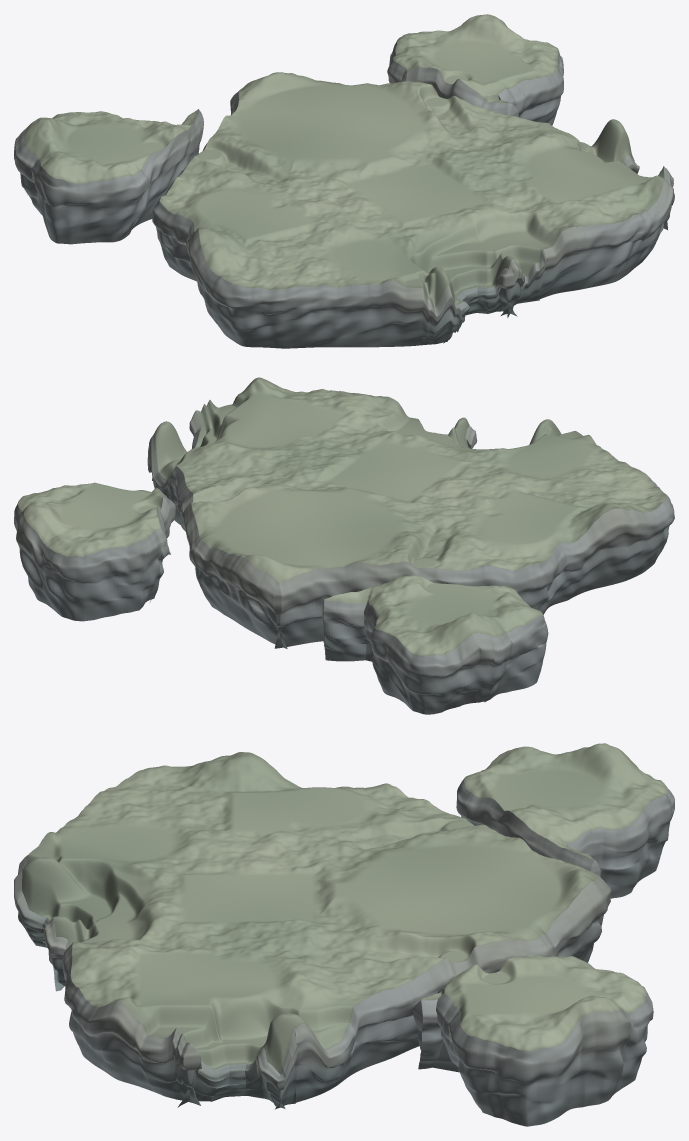
3 renders of one model, top to bottom at view 1: azimuth 30°, elevation 25°; view 2: azimuth 150°, elevation 25°; view 3: azimuth 270°, elevation 25°, orthographic. The views are drawn at different scales.
Visible parts, largest first — view 1: ground, cliffs; view 2: ground, cliffs; view 3: ground, cliffs.
Part boxes in pixels (x1=…): ground: x1=24, y1=14, x2=666, y2=307; cliffs: x1=14, y1=42, x2=674, y2=348; ground: x1=18, y1=377, x2=667, y2=655; cliffs: x1=14, y1=386, x2=674, y2=714; ground: x1=22, y1=743, x2=667, y2=1074; cliffs: x1=14, y1=765, x2=674, y2=1126.
Size of the model in its own units: 238 by 38.79 by 219.
